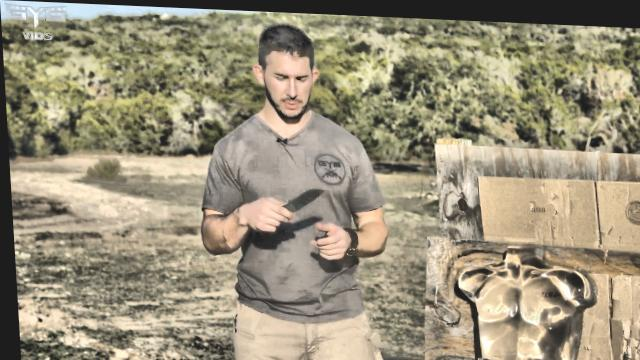knife: (243, 177, 329, 232)
